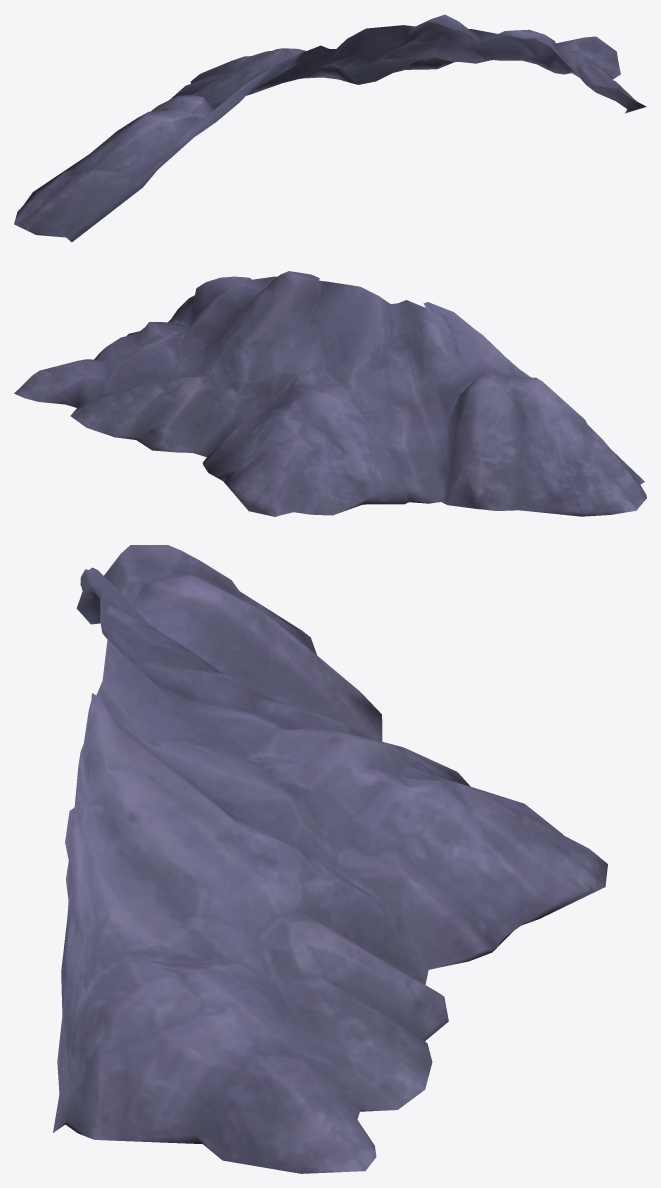
The model's file is Battle_haijie_shanti01_e_fbx.fbx.
3 renders of one model, top to bottom at view 1: azimuth 30°, elevation 25°; view 2: azimuth 150°, elevation 25°; view 3: azimuth 270°, elevation 25°, orthographic. The views are drawn at different scales.
Visible parts, largest first — view 1: Battle_haijie_shanti01_e_fbx; view 2: Battle_haijie_shanti01_e_fbx; view 3: Battle_haijie_shanti01_e_fbx.
Part boxes in pixels (bbox=[...]): Battle_haijie_shanti01_e_fbx: bbox=[14, 14, 646, 242]; Battle_haijie_shanti01_e_fbx: bbox=[14, 271, 646, 516]; Battle_haijie_shanti01_e_fbx: bbox=[53, 545, 607, 1173].
Bounding box in the file's own units: 2253 × 483 × 925.
